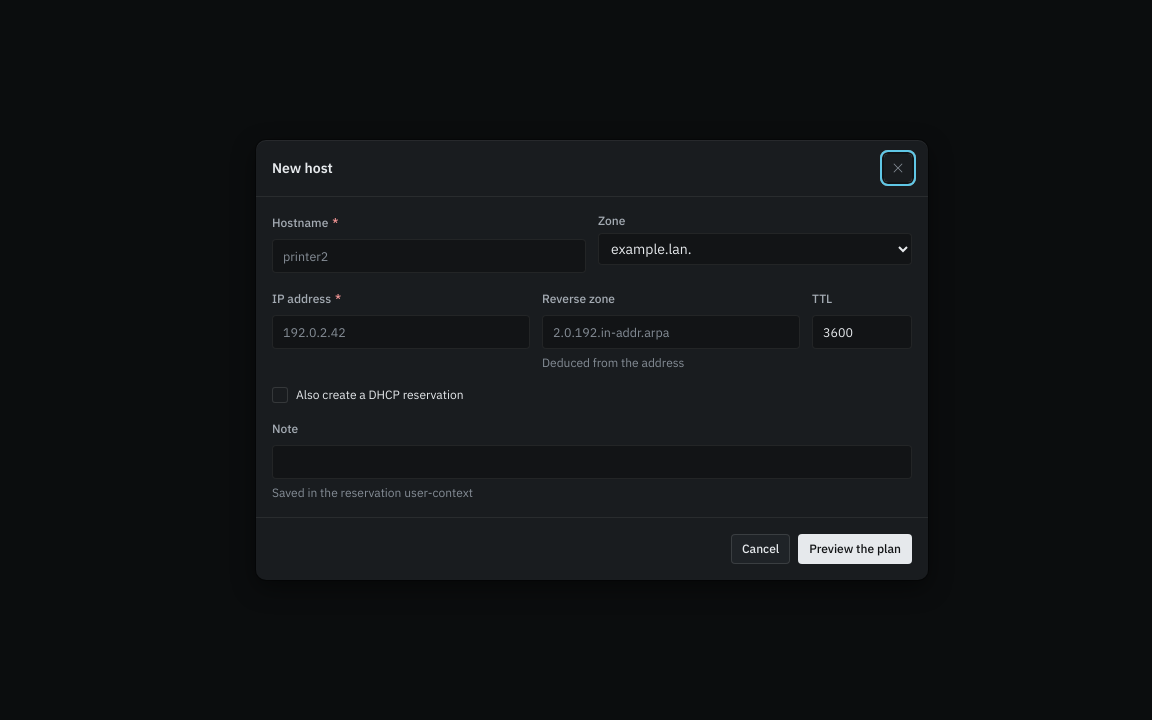
Test: record zones › says the reverse zone follows the address before one is typed
Expected: the text "Deduced from the address" is shown, [542, 355, 684, 370]
Type "198.51.100.7" into the field with test id "host-ip".
click(401, 332); type("198.51.100.7")  # box [272, 315, 530, 349]
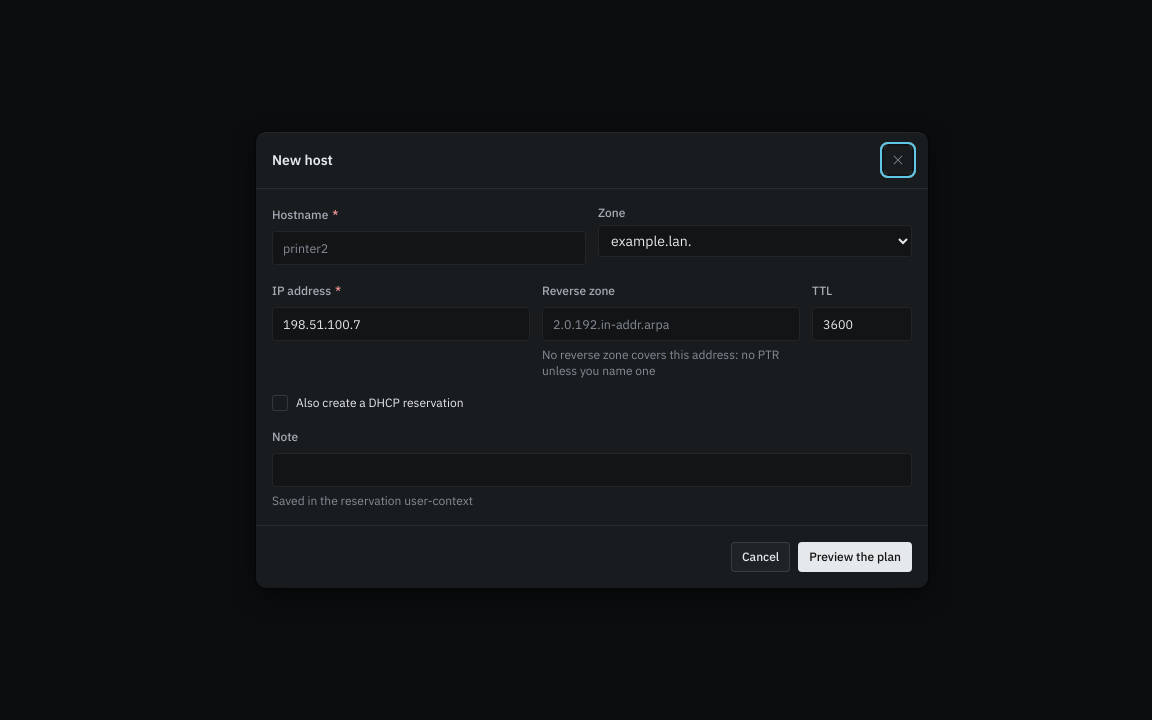
Now the text "No reverse zone covers this address" is shown, box [542, 347, 780, 378]
